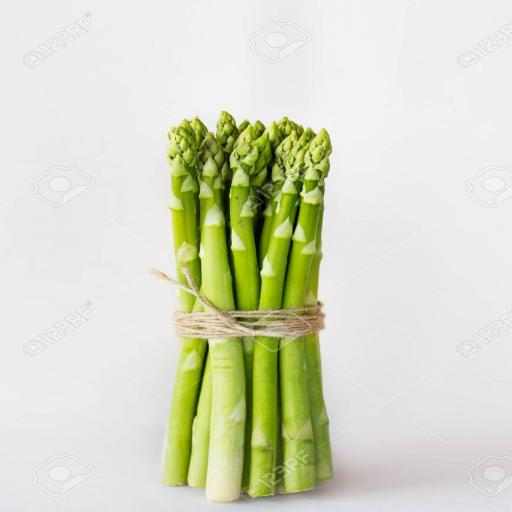asparagus: (151, 111, 332, 501)
